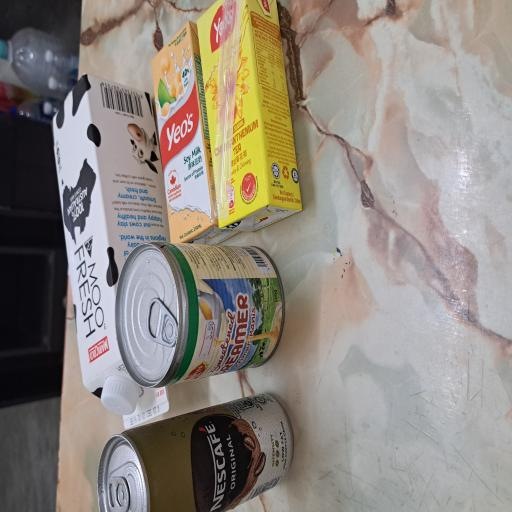can: (94, 152, 202, 380), (0, 129, 91, 396)
drink carton: (74, 68, 329, 223), (210, 262, 384, 405), (203, 200, 367, 290)
plastic bottle cap: (72, 132, 104, 187)
pop tab: (123, 192, 161, 241), (0, 140, 28, 172)
